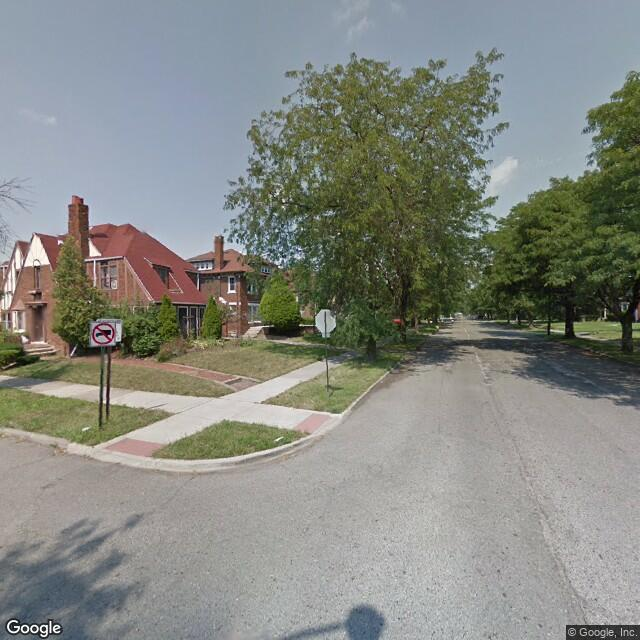litter: (78, 423, 91, 433), (272, 434, 286, 442), (378, 379, 386, 384)
